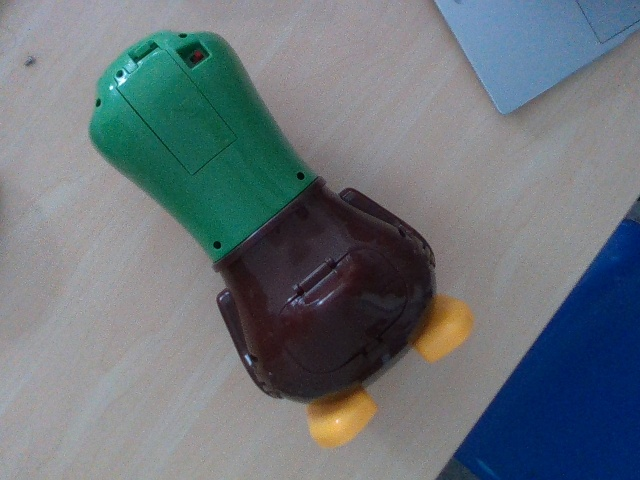screw hole: (296, 170, 306, 181), (212, 240, 222, 248), (248, 354, 257, 362), (94, 98, 102, 105), (117, 70, 125, 76), (179, 33, 187, 37)
toy: (90, 28, 473, 448)
